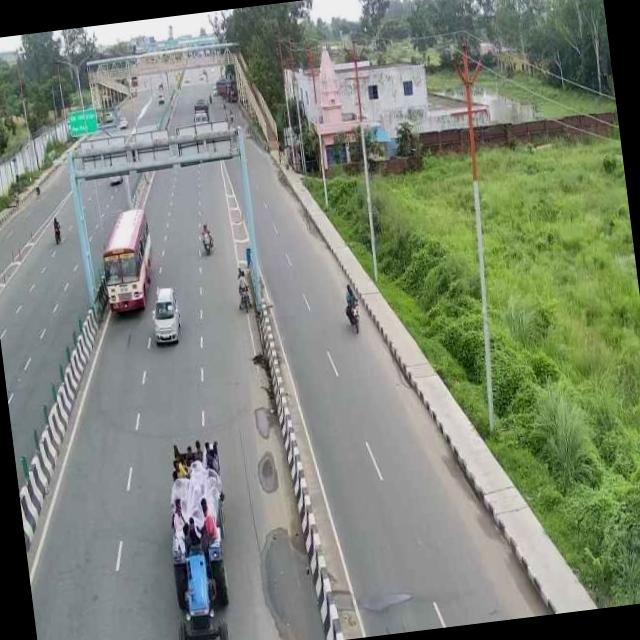car: (144, 283, 188, 352)
